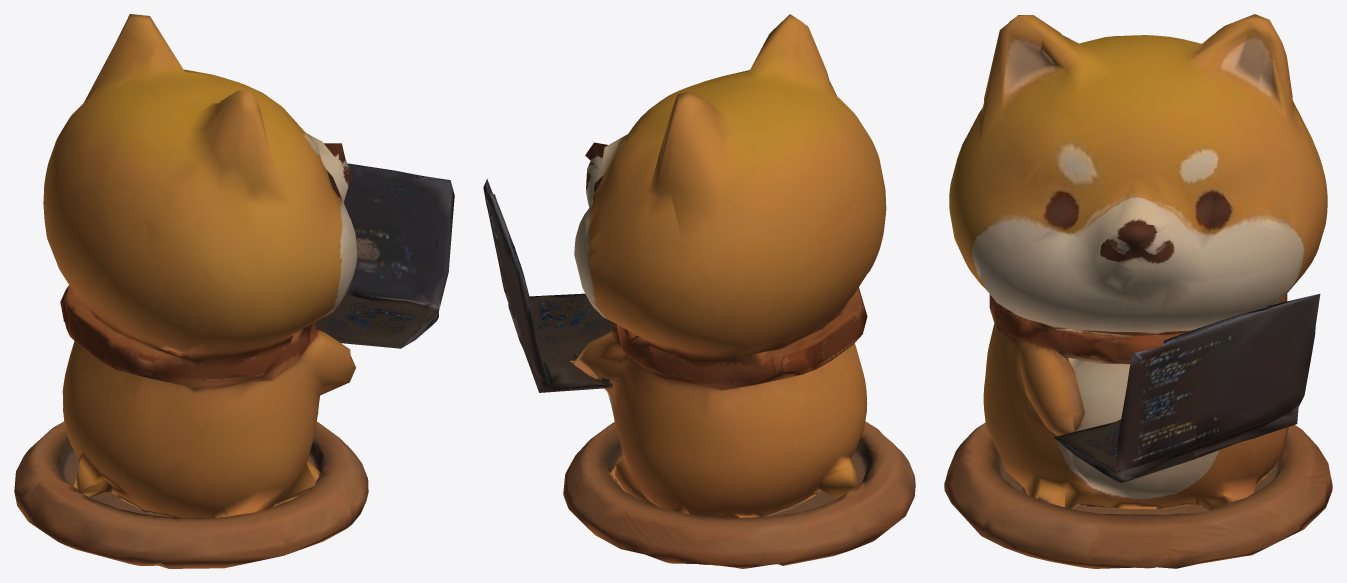
Rendered from shiba_upgrade.glb.
3 views of the same model, side by side, from view 1: azimuth 30°, elevation 25°; view 2: azimuth 150°, elevation 25°; view 3: azimuth 270°, elevation 25° (orthographic). The views are drawn at different scales.
Parts seen in each view (by area): view 1: tripo_node_bd245a6d-e436-4207-b917-40e7bc46662d; view 2: tripo_node_bd245a6d-e436-4207-b917-40e7bc46662d; view 3: tripo_node_bd245a6d-e436-4207-b917-40e7bc46662d.
Part boxes in pixels (box(x1,y1,x2,y2)): tripo_node_bd245a6d-e436-4207-b917-40e7bc46662d: box(14, 14, 454, 568); tripo_node_bd245a6d-e436-4207-b917-40e7bc46662d: box(483, 14, 915, 568); tripo_node_bd245a6d-e436-4207-b917-40e7bc46662d: box(944, 14, 1332, 568).
Bounding box in the file's own units: 0.9659 × 0.9971 × 0.7279.
Materials: 1 (1 with a texture image).
